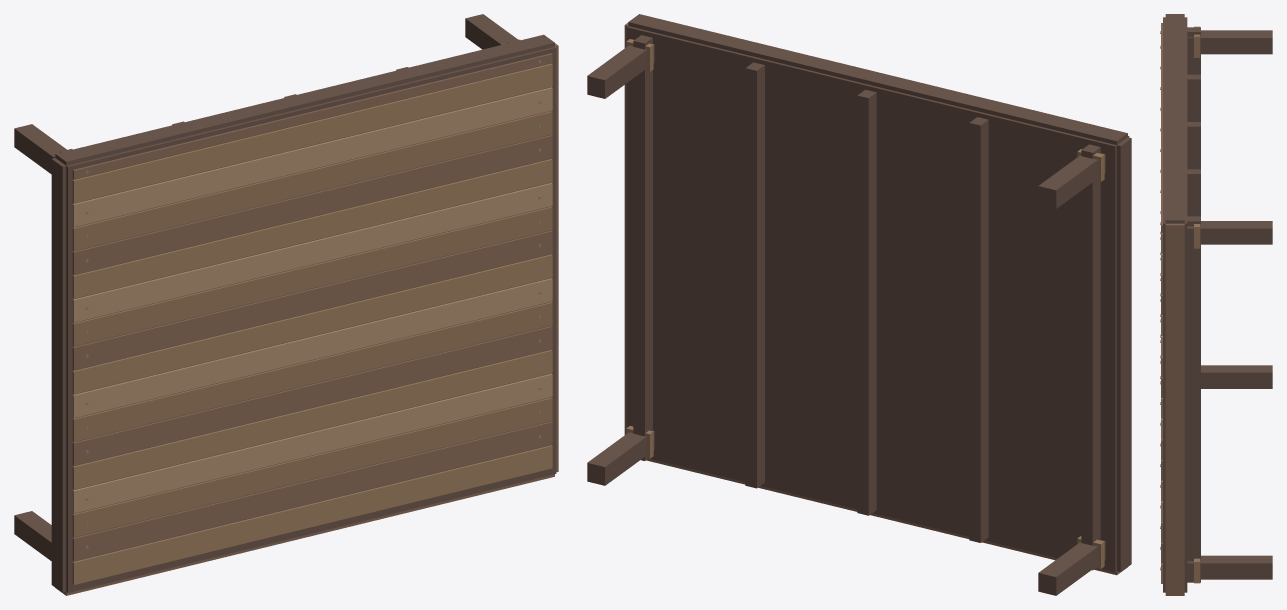
Rendered from raised_platform_6x5_wood_deck.glb.
3 views of the same model, side by side, from view 1: azimuth 30°, elevation 25°; view 2: azimuth 150°, elevation 25°; view 3: azimuth 270°, elevation 25° (orthographic). The views are drawn at different scales.
Visible parts, largest first — view 1: raised_platform_6x5_wood_deck_000, raised_platform_6x5_wood_deck_004, raised_platform_6x5_wood_deck_007, raised_platform_6x5_wood_deck_019, raised_platform_6x5_wood_deck_013, raised_platform_6x5_wood_deck_025, raised_platform_6x5_wood_deck_040, raised_platform_6x5_wood_deck_046, raised_platform_6x5_wood_deck_010, raised_platform_6x5_wood_deck_031, raised_platform_6x5_wood_deck_028, raised_platform_6x5_wood_deck_034 (+14 smaller); view 2: raised_platform_6x5_wood_deck_000, raised_platform_6x5_wood_deck_060, raised_platform_6x5_wood_deck_062, raised_platform_6x5_wood_deck_061, raised_platform_6x5_wood_deck_058, raised_platform_6x5_wood_deck_063, raised_platform_6x5_wood_deck_059, raised_platform_6x5_wood_deck_057, raised_platform_6x5_wood_deck_066, raised_platform_6x5_wood_deck_064, raised_platform_6x5_wood_deck_070, raised_platform_6x5_wood_deck_068 (+2 smaller); view 3: raised_platform_6x5_wood_deck_056, raised_platform_6x5_wood_deck_063, raised_platform_6x5_wood_deck_058, raised_platform_6x5_wood_deck_000, raised_platform_6x5_wood_deck_068, raised_platform_6x5_wood_deck_066, raised_platform_6x5_wood_deck_070, raised_platform_6x5_wood_deck_064, raised_platform_6x5_wood_deck_060, raised_platform_6x5_wood_deck_061, raised_platform_6x5_wood_deck_062, raised_platform_6x5_wood_deck_052 (+4 smaller).
Part boxes in pixels (x1=…): raised_platform_6x5_wood_deck_000: x1=53, y1=46, x2=556, y2=592; raised_platform_6x5_wood_deck_004: x1=72, y1=421, x2=552, y2=561; raised_platform_6x5_wood_deck_007: x1=72, y1=397, x2=552, y2=537; raised_platform_6x5_wood_deck_019: x1=72, y1=302, x2=552, y2=441; raised_platform_6x5_wood_deck_013: x1=72, y1=350, x2=552, y2=489; raised_platform_6x5_wood_deck_025: x1=72, y1=254, x2=552, y2=394; raised_platform_6x5_wood_deck_040: x1=72, y1=135, x2=552, y2=274; raised_platform_6x5_wood_deck_046: x1=72, y1=87, x2=552, y2=226; raised_platform_6x5_wood_deck_010: x1=72, y1=373, x2=552, y2=513; raised_platform_6x5_wood_deck_031: x1=72, y1=206, x2=552, y2=346; raised_platform_6x5_wood_deck_028: x1=72, y1=230, x2=552, y2=370; raised_platform_6x5_wood_deck_034: x1=72, y1=183, x2=552, y2=322; raised_platform_6x5_wood_deck_000: x1=626, y1=26, x2=1129, y2=572; raised_platform_6x5_wood_deck_060: x1=969, y1=117, x2=988, y2=542; raised_platform_6x5_wood_deck_062: x1=745, y1=62, x2=764, y2=488; raised_platform_6x5_wood_deck_061: x1=857, y1=89, x2=876, y2=515; raised_platform_6x5_wood_deck_058: x1=628, y1=14, x2=1127, y2=144; raised_platform_6x5_wood_deck_063: x1=633, y1=35, x2=652, y2=460; raised_platform_6x5_wood_deck_059: x1=1081, y1=144, x2=1100, y2=570; raised_platform_6x5_wood_deck_057: x1=1117, y1=137, x2=1131, y2=572; raised_platform_6x5_wood_deck_066: x1=1038, y1=153, x2=1105, y2=208; raised_platform_6x5_wood_deck_064: x1=1038, y1=540, x2=1105, y2=595; raised_platform_6x5_wood_deck_070: x1=587, y1=44, x2=654, y2=98; raised_platform_6x5_wood_deck_068: x1=587, y1=430, x2=654, y2=485; raised_platform_6x5_wood_deck_056: x1=1165, y1=223, x2=1184, y2=593; raised_platform_6x5_wood_deck_063: x1=1187, y1=216, x2=1200, y2=582; raised_platform_6x5_wood_deck_058: x1=1165, y1=14, x2=1184, y2=223; raised_platform_6x5_wood_deck_000: x1=1163, y1=17, x2=1187, y2=592; raised_platform_6x5_wood_deck_068: x1=1187, y1=555, x2=1272, y2=579; raised_platform_6x5_wood_deck_066: x1=1187, y1=30, x2=1272, y2=54; raised_platform_6x5_wood_deck_070: x1=1187, y1=221, x2=1272, y2=244; raised_platform_6x5_wood_deck_064: x1=1201, y1=365, x2=1272, y2=388; raised_platform_6x5_wood_deck_060: x1=1187, y1=74, x2=1200, y2=121; raised_platform_6x5_wood_deck_061: x1=1187, y1=122, x2=1200, y2=169; raised_platform_6x5_wood_deck_062: x1=1187, y1=169, x2=1200, y2=216; raised_platform_6x5_wood_deck_052: x1=1161, y1=23, x2=1162, y2=232.
Size of the model in its own units: 6.09 by 5.09 by 1.38.
